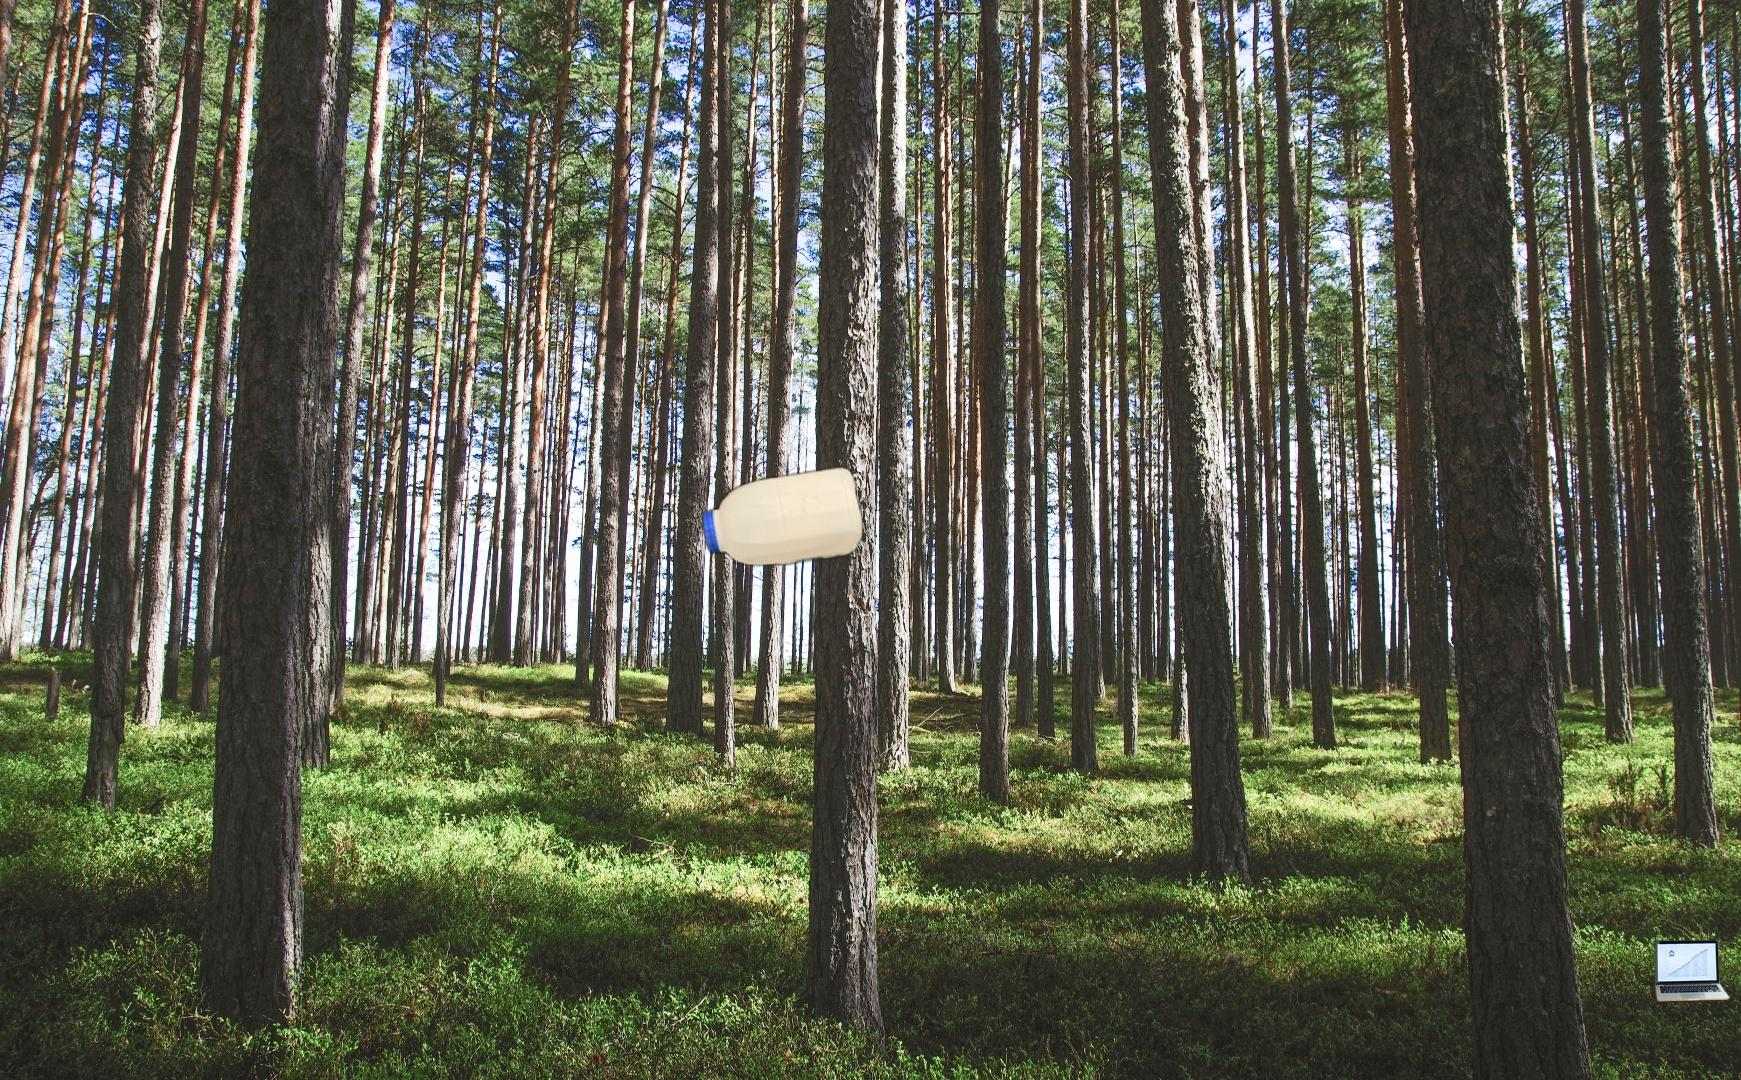plastic-bottles: (696, 460, 867, 572)
trashbox-cardboard: (1642, 808, 1734, 1005)
